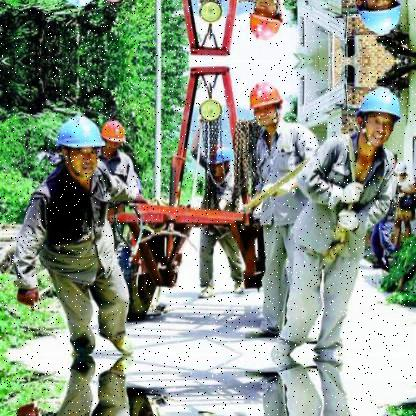Helmet: (60, 112, 106, 180), (359, 81, 401, 144), (345, 0, 401, 35), (249, 78, 282, 130), (252, 0, 286, 46), (98, 113, 126, 152), (393, 158, 415, 182)
